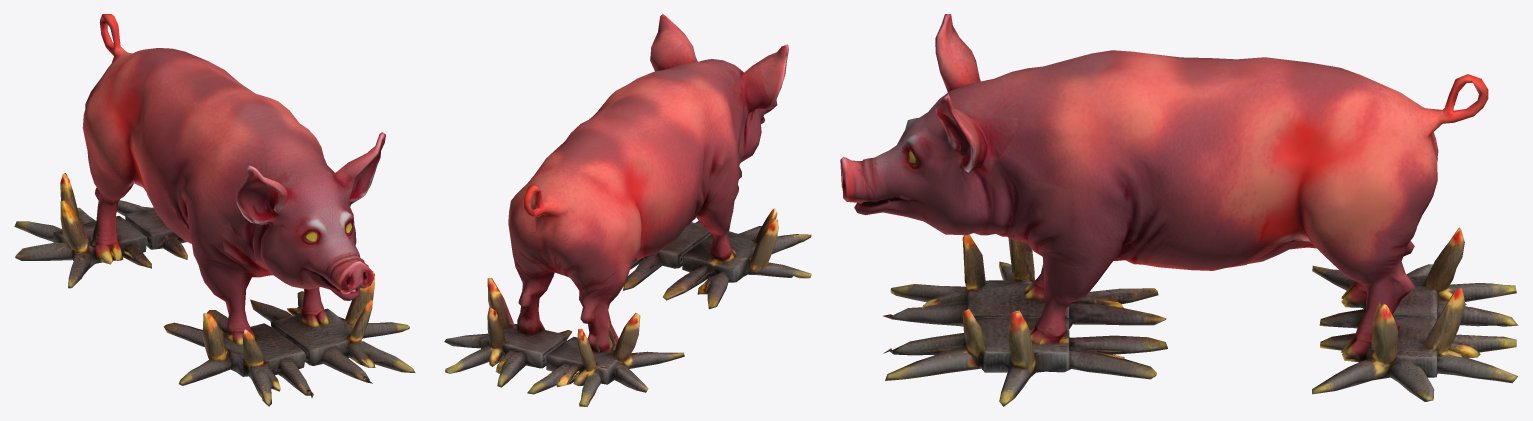
File: Low_poly_3D_game_asse_1208180036_texture.glb
3 views of the same model, side by side, from view 1: azimuth 30°, elevation 25°; view 2: azimuth 150°, elevation 25°; view 3: azimuth 270°, elevation 25° (orthographic). The views are drawn at different scales.
Visible parts, largest first — view 1: Mesh1.0; view 2: Mesh1.0; view 3: Mesh1.0.
Part boxes in pixels (box(x1,y1,x2,y2)): Mesh1.0: box(14, 14, 415, 406); Mesh1.0: box(444, 14, 811, 406); Mesh1.0: box(840, 14, 1518, 406).
Size of the model in its own units: 0.5892 by 0.55 by 1.2.
1 material, 1 textured.
